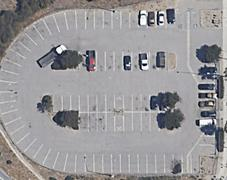parkingspot: (0, 8, 202, 175), (52, 94, 168, 113), (77, 50, 169, 73), (198, 56, 218, 158), (78, 111, 170, 133)
